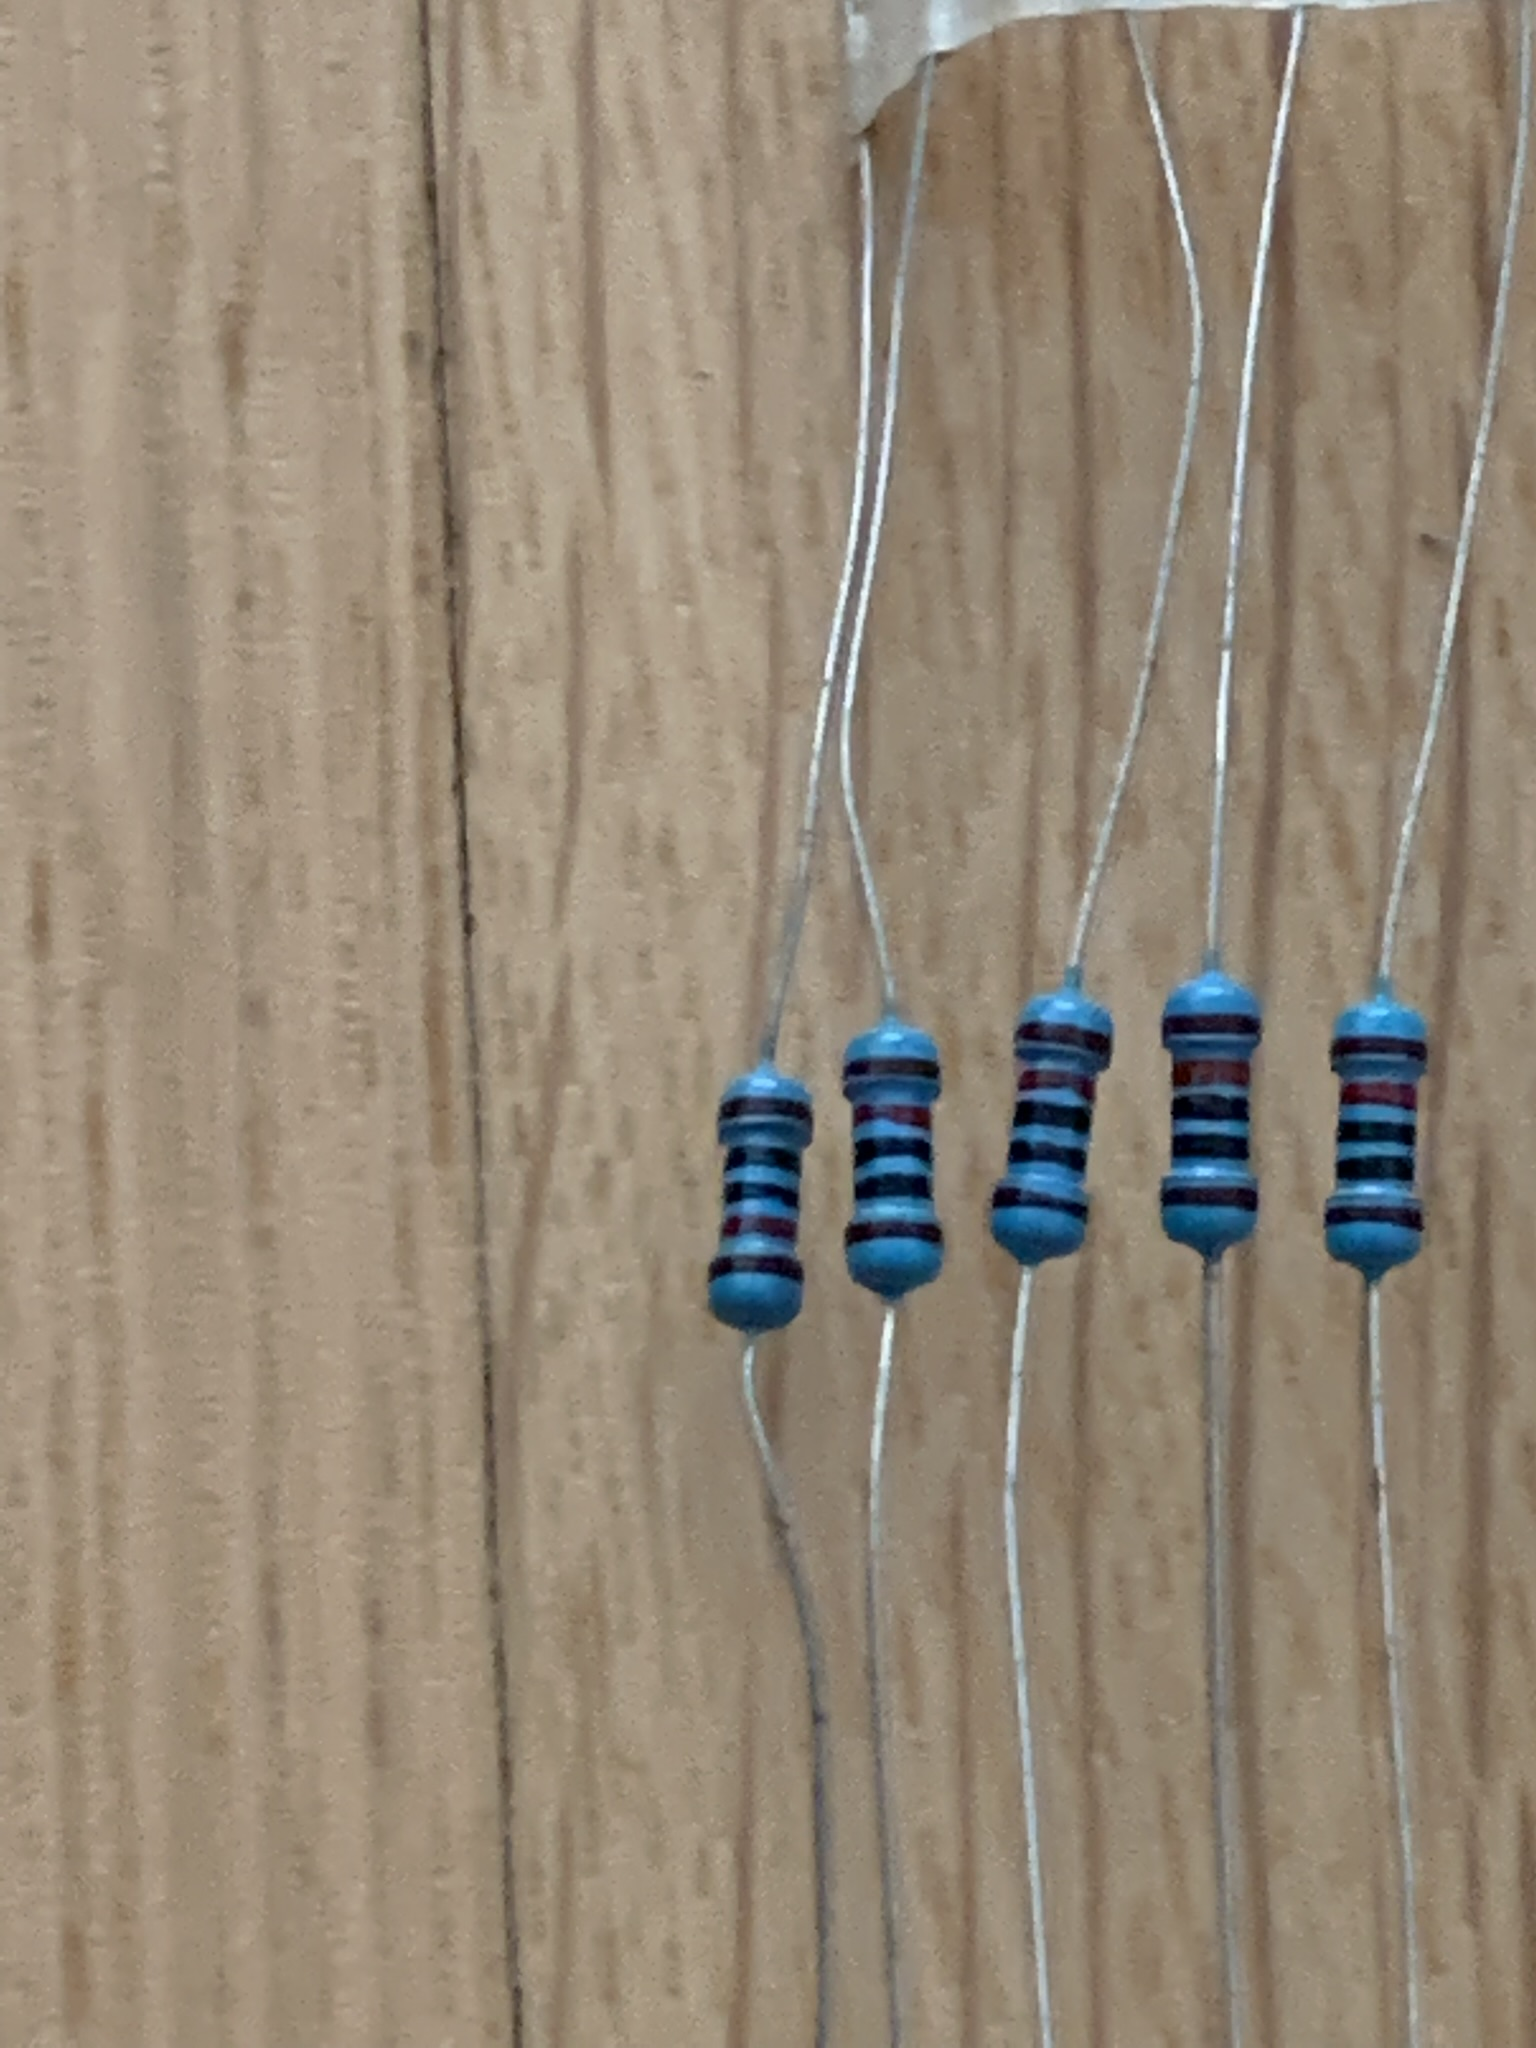resistor_thd: (984, 989, 1120, 1261), (1155, 972, 1268, 1258), (841, 1024, 949, 1300), (703, 1072, 816, 1335), (1321, 1003, 1431, 1272)
